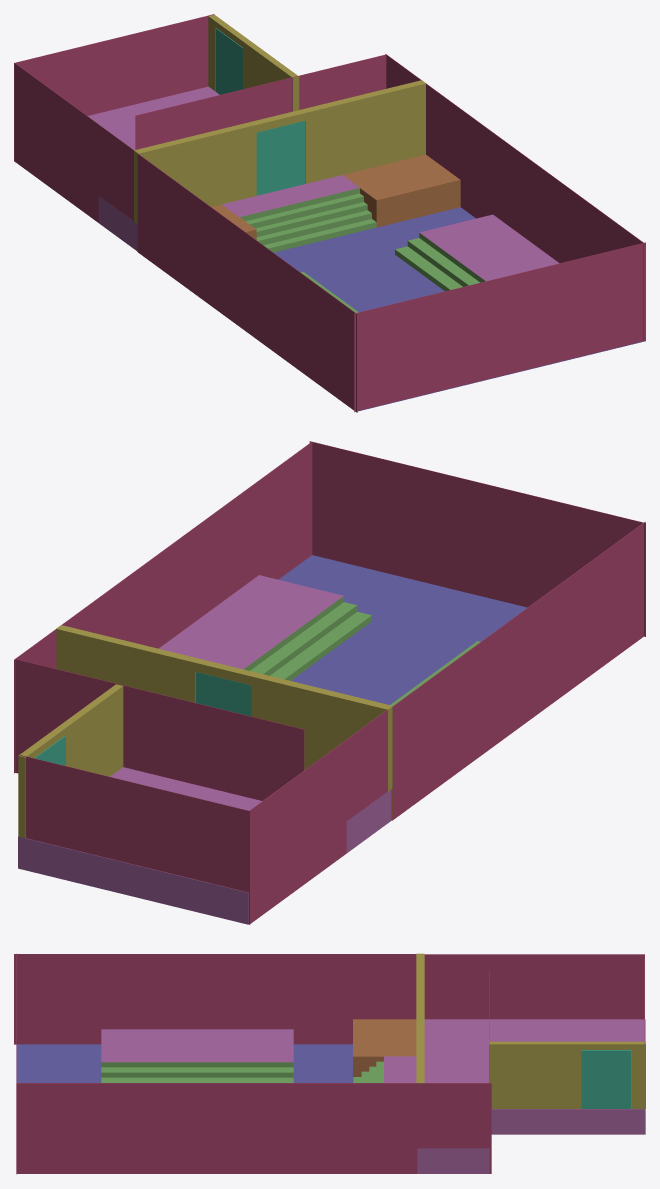
Rendered from estructura2.fbx.
3 views of the same model, one above another, from view 1: azimuth 30°, elevation 25°; view 2: azimuth 150°, elevation 25°; view 3: azimuth 270°, elevation 25° (orthographic). The views are drawn at different scales.
Parts seen in each view (by area): view 1: pCube2, pCube9, pCube4, pCube11, pCube8, pCube6, pCube1, pCube3, pCube20, pCube28, pCube24, pCube12 (+4 smaller); view 2: pCube2, pCube9, pCube11, pCube3, pCube8, pCube1, pCube6, pCube4, pCube20, pCube27, pCube10, pCube12 (+1 smaller); view 3: pCube11, pCube9, pCube6, pCube29, pCube10, pCube27, pCube26, pCube1, pCube13, pCube25, pCube28, pCube4.
Part boxes in pixels (<box>): pCube2: <box>354,242,645,412</box>; pCube9: <box>137,154,357,412</box>; pCube4: <box>134,80,426,223</box>; pCube11: <box>385,54,644,341</box>; pCube8: <box>14,14,214,161</box>; pCube6: <box>14,63,133,222</box>; pCube1: <box>274,207,643,411</box>; pCube3: <box>135,54,386,149</box>; pCube20: <box>395,214,559,291</box>; pCube28: <box>222,175,376,252</box>; pCube24: <box>343,154,460,227</box>; pCube12: <box>256,121,305,195</box>; pCube2: <box>309,441,645,636</box>; pCube9: <box>392,521,645,819</box>; pCube11: <box>14,442,312,773</box>; pCube3: <box>15,659,304,800</box>; pCube8: <box>19,754,250,924</box>; pCube1: <box>278,555,527,704</box>; pCube6: <box>249,710,387,923</box>; pCube4: <box>56,625,392,791</box>; pCube20: <box>159,575,371,680</box>; pCube27: <box>18,767,261,924</box>; pCube10: <box>18,684,123,838</box>; pCube12: <box>195,672,251,716</box>; pCube11: <box>16,1083,491,1173</box>; pCube9: <box>14,954,416,1044</box>; pCube6: <box>424,954,644,1019</box>; pCube29: <box>101,1029,293,1082</box>; pCube10: <box>489,1041,645,1108</box>; pCube27: <box>489,1019,645,1134</box>; pCube26: <box>417,1019,489,1173</box>; pCube1: <box>16,1044,353,1082</box>; pCube13: <box>581,1050,630,1108</box>; pCube25: <box>353,1019,416,1081</box>; pCube28: <box>353,1056,416,1082</box>; pCube4: <box>416,953,424,1083</box>.
Size of the model in its own units: 120 by 39 by 246.
